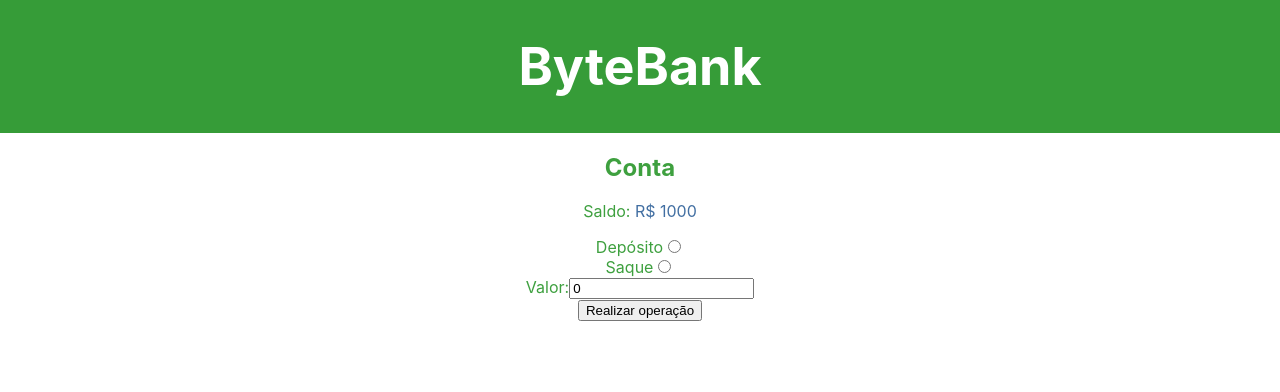
Test: Componente principal › Quando eu realizo uma transação › que é um saque a transaçao deve ser realizada
Expected: the text "R$ 1000" is shown, [635,202,697,222]
Click the radio button labelled "Saque".
click(665, 267)  # box [658,260,671,274]
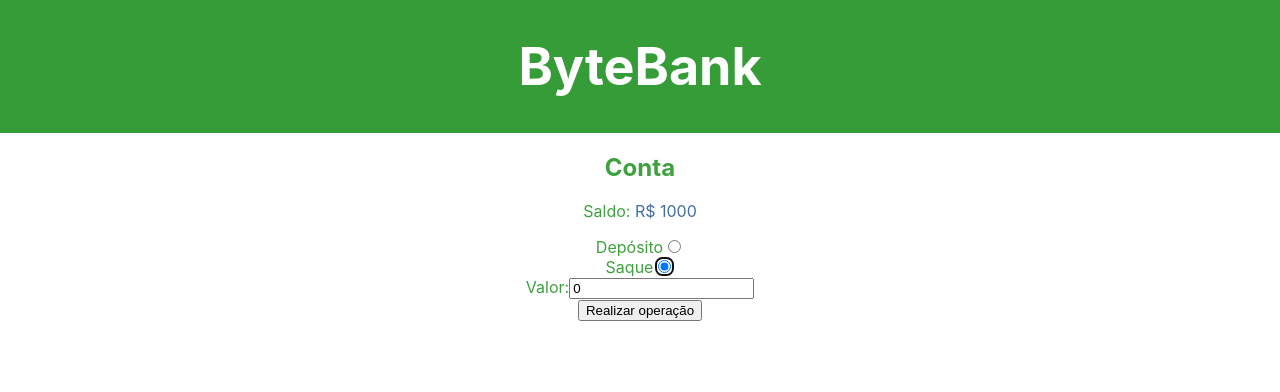
Type "10" into the field with test id "valor".
click(662, 289); type("10")  # box [569,278,754,300]
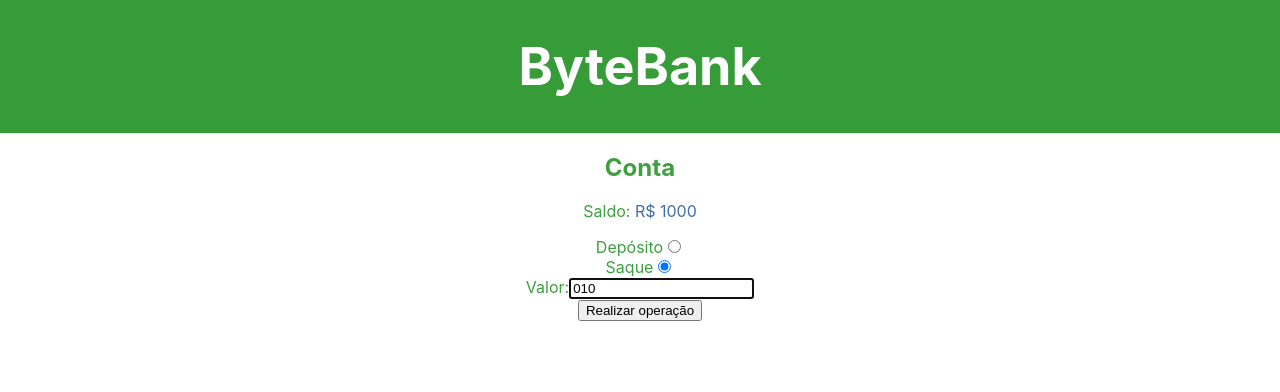
Click the button "Realizar operação".
click(640, 311)  # box [578,300,702,322]
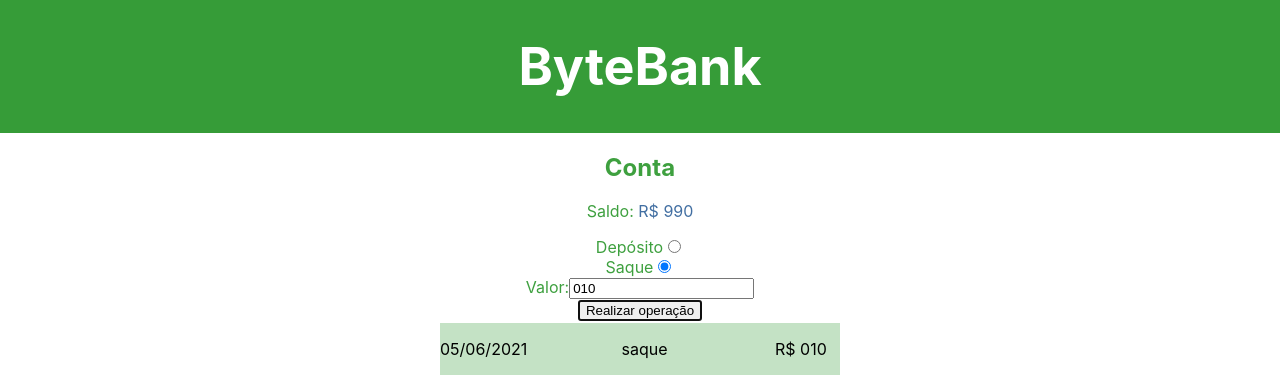
Now the text "R$ 1000" reads "R$ 990", box [638,202,693,222]
